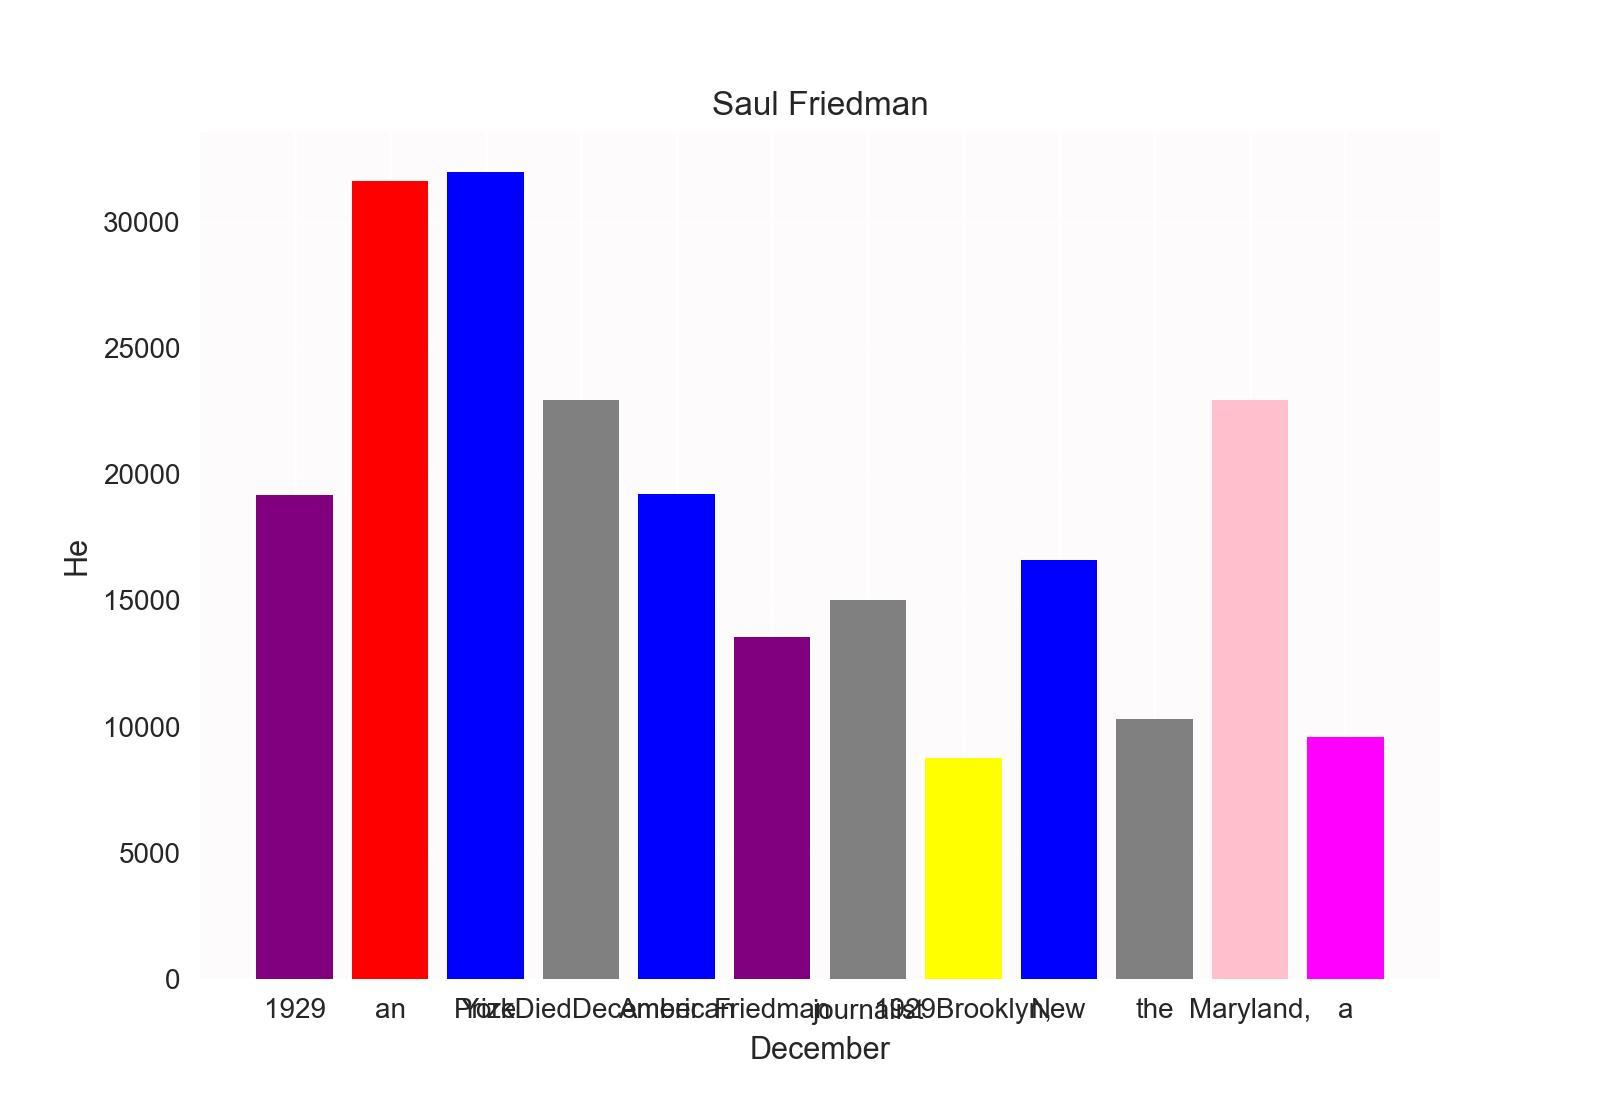axis: (62, 211, 180, 995)
rectangle: (447, 173, 524, 978), (353, 181, 428, 978), (543, 400, 619, 978), (1212, 400, 1288, 978), (638, 493, 715, 978), (257, 495, 332, 978), (1021, 560, 1097, 978), (830, 600, 906, 978), (734, 637, 810, 978), (1116, 720, 1193, 978), (1307, 737, 1384, 978), (925, 758, 1002, 978)
